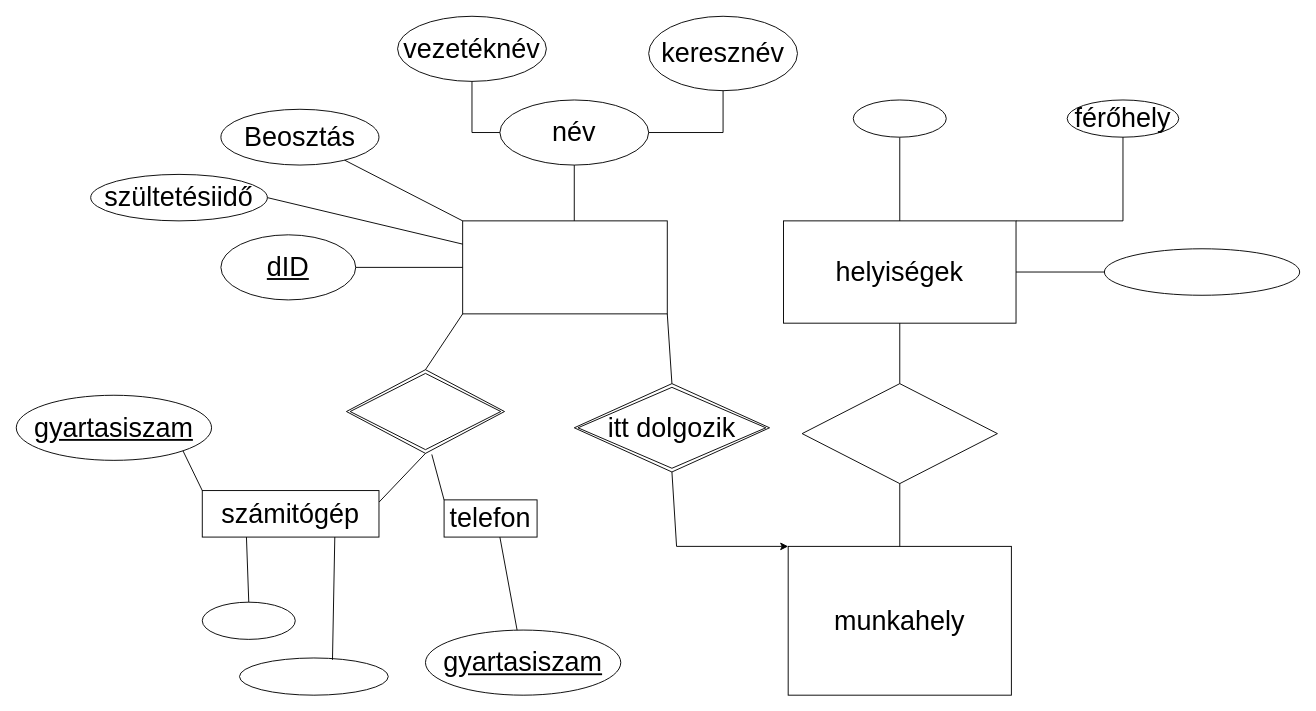
This 1316x711 diagram has some shape labels left out. Each missing label, with the centre of its shape:
"alapterület" belongs at point 1201,271.
"dolgozó" belongs at point 564,267.
"hId" belongs at point 899,118.
"processzor" belongs at point 313,676.
"ram" belongs at point 248,620.
"van-e ilyen helyiség" belongs at point 899,433.
"van-e neki" belongs at point 425,411.
